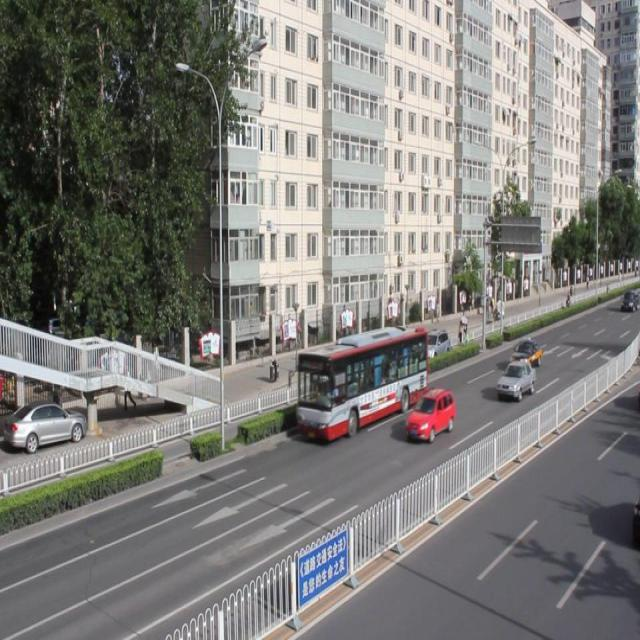car: (404, 386, 455, 441), (494, 357, 535, 398), (507, 337, 541, 369), (421, 326, 450, 361)
van: (297, 327, 426, 440)
